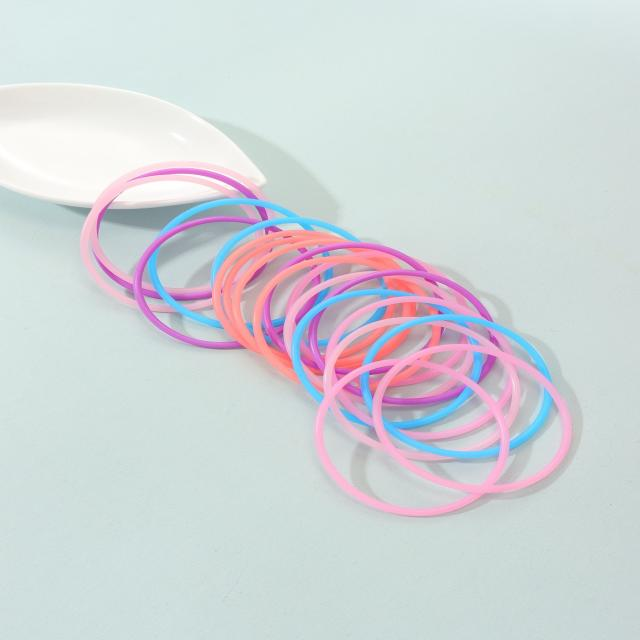bracelet: (0, 104, 640, 604)
